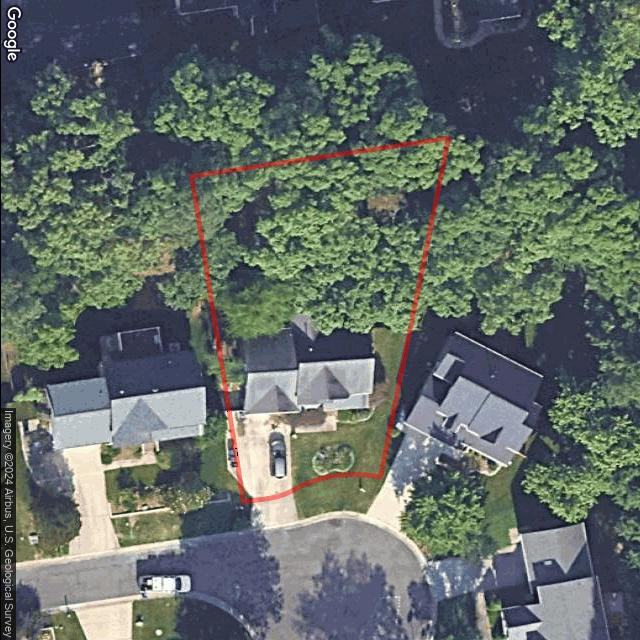Driveway: (191, 139, 447, 500), (228, 409, 293, 503)
Extra-Driveway: (247, 494, 296, 526), (223, 409, 239, 484)
Extra-Lawn: (292, 473, 380, 519)
House: (237, 314, 373, 414)
Other: (335, 359, 389, 424), (311, 444, 354, 478), (288, 404, 323, 425)
Sidewalk: (290, 409, 336, 434)
